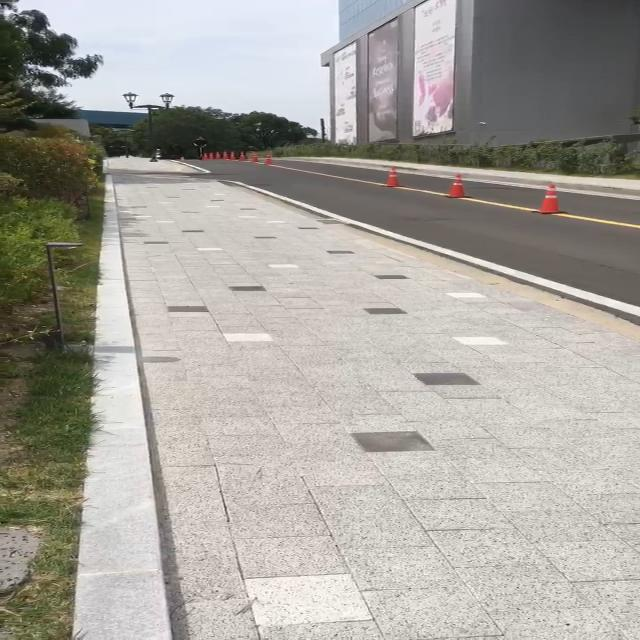obstacle: (524, 180, 578, 218), (436, 169, 473, 202), (387, 163, 409, 188)
road: (181, 157, 640, 353)
sidewalk: (74, 171, 640, 640), (308, 154, 640, 191), (108, 158, 194, 173)
